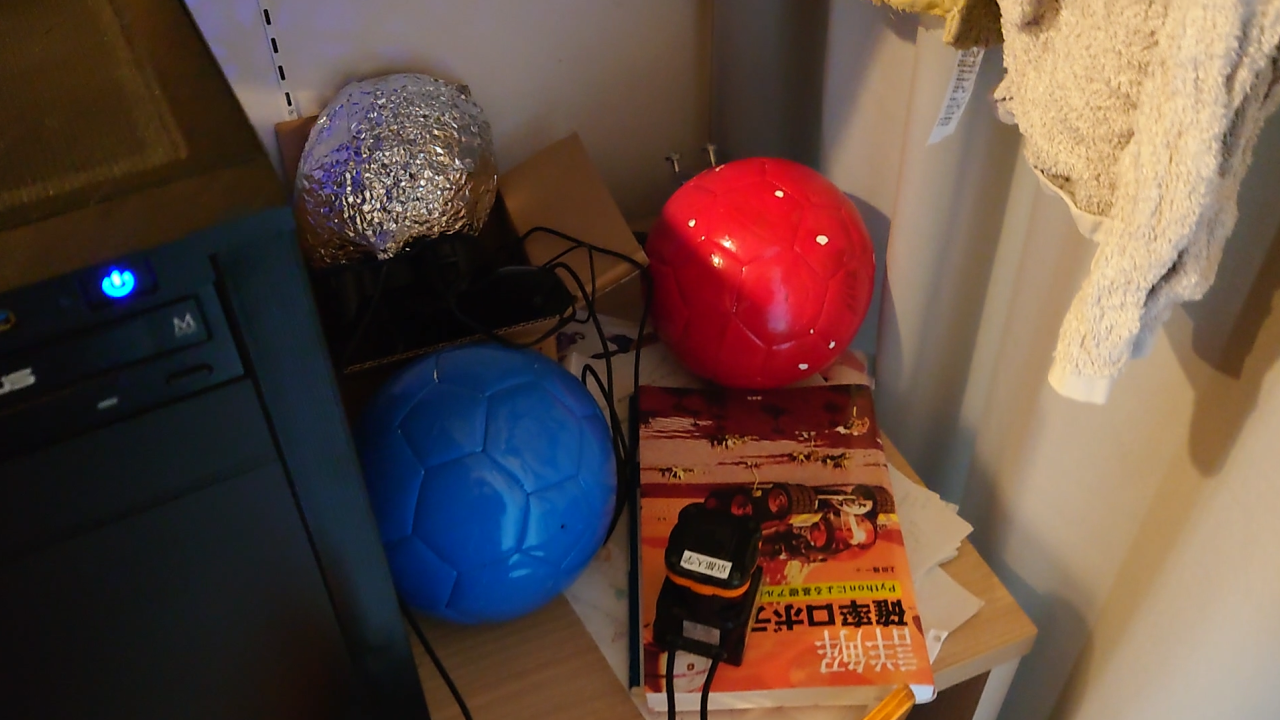blue: (369, 343, 609, 628)
red: (649, 158, 873, 393)
